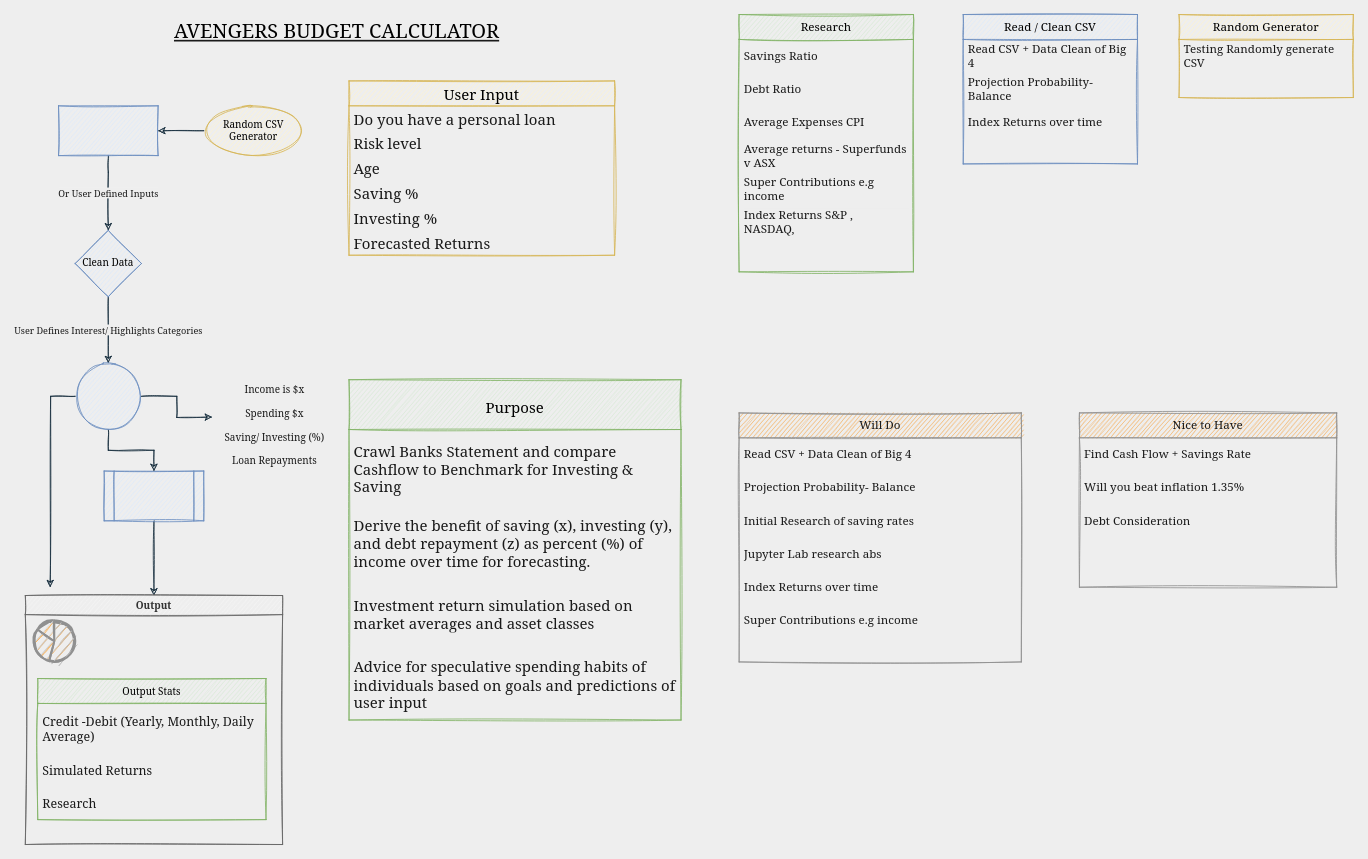
The diagram is 1368 pixels wide and 859 high, and some of its shapes have lost their labels. The centre of each missing label's shape, as x and y in pixels:
"Bank CSV" goes at point 108,130.
"Categorise" goes at point 108,396.
"Monte Carlo Sim" goes at point 153,495.
